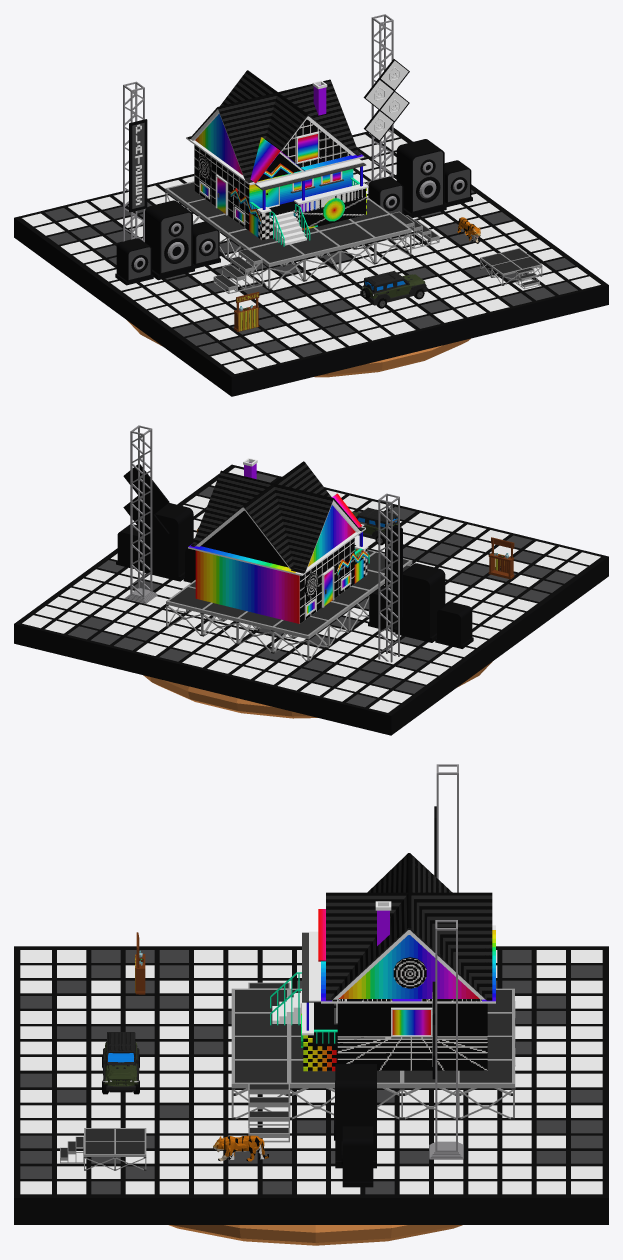
The picture shows the model from 3 angles, top to bottom: view 1: azimuth 30°, elevation 25°; view 2: azimuth 150°, elevation 25°; view 3: azimuth 270°, elevation 25°; orthographic projection. The views are drawn at different scales.
Visible parts, largest first — view 1: Cube.008, Cube.1320, VEHICLES_JEEP, UNDERGROUND_PIZZA, OBJRANDOM_LEMONADE_STAND; view 2: Cube.008, Cube.1320, UNDERGROUND_PIZZA, VEHICLES_JEEP, OBJRANDOM_LEMONADE_STAND; view 3: Cube.008, Cube.1320, UNDERGROUND_PIZZA, VEHICLES_JEEP, ANIMAL_TIGRE.
Boxes of the visible parts, x1=… form: Cube.008: x1=14, y1=14, x2=608, y2=396; Cube.1320: x1=186, y1=70, x2=368, y2=246; VEHICLES_JEEP: x1=360, y1=270, x2=427, y2=308; UNDERGROUND_PIZZA: x1=127, y1=320, x2=470, y2=377; OBJRANDOM_LEMONADE_STAND: x1=234, y1=291, x2=259, y2=331; Cube.008: x1=14, y1=425, x2=608, y2=735; Cube.1320: x1=188, y1=458, x2=369, y2=623; UNDERGROUND_PIZZA: x1=143, y1=661, x2=492, y2=718; VEHICLES_JEEP: x1=351, y1=507, x2=401, y2=545; OBJRANDOM_LEMONADE_STAND: x1=488, y1=537, x2=514, y2=579; Cube.008: x1=14, y1=764, x2=608, y2=1224; Cube.1320: x1=270, y1=853, x2=495, y2=1071; UNDERGROUND_PIZZA: x1=169, y1=1225, x2=462, y2=1245; VEHICLES_JEEP: x1=102, y1=1032, x2=139, y2=1094; ANIMAL_TIGRE: x1=213, y1=1135, x2=268, y2=1161.
Bounding box in the file's own units: 4000 × 2184 × 4000.
44 materials, 3 textured.
